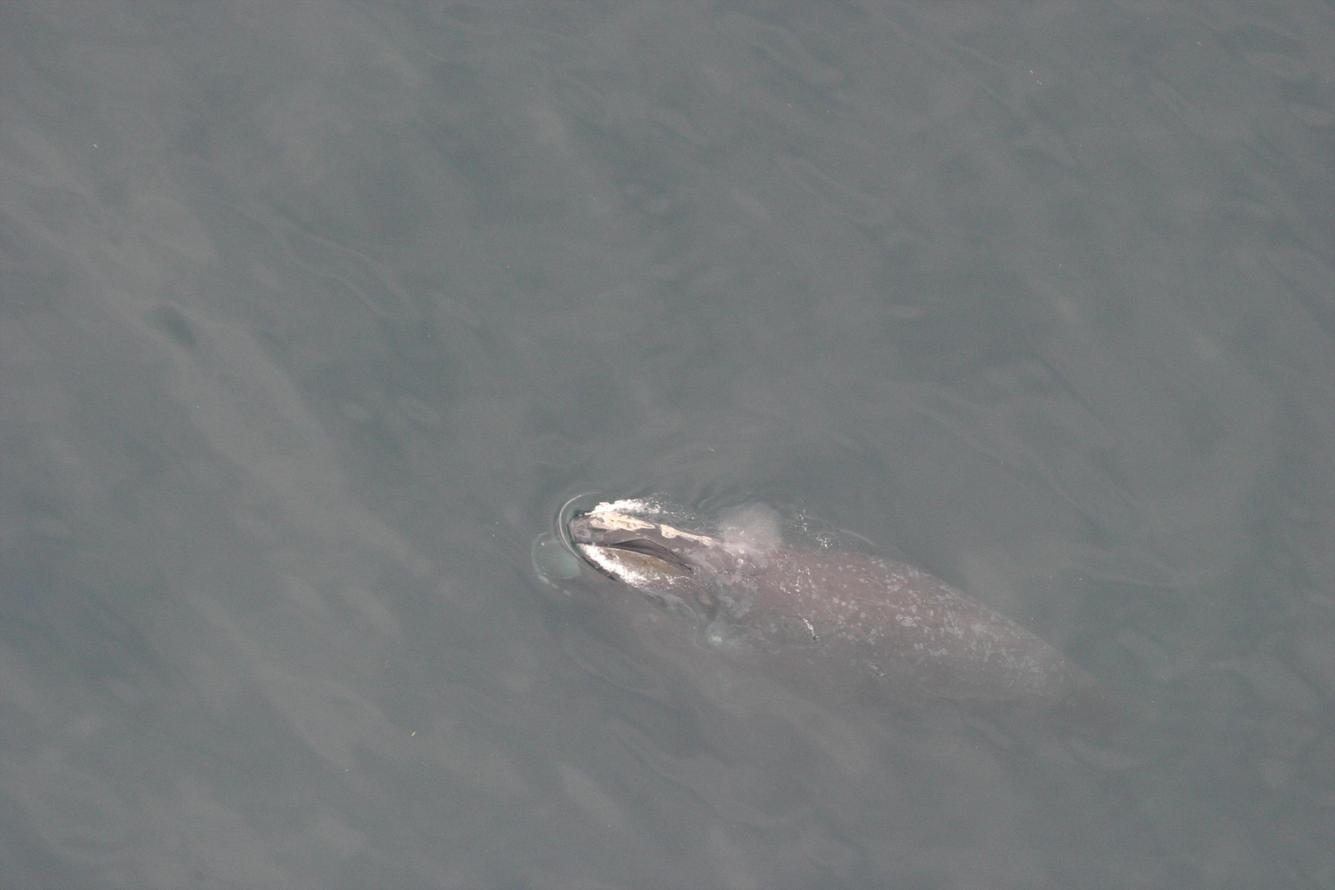whale: (517, 476, 1180, 739)
